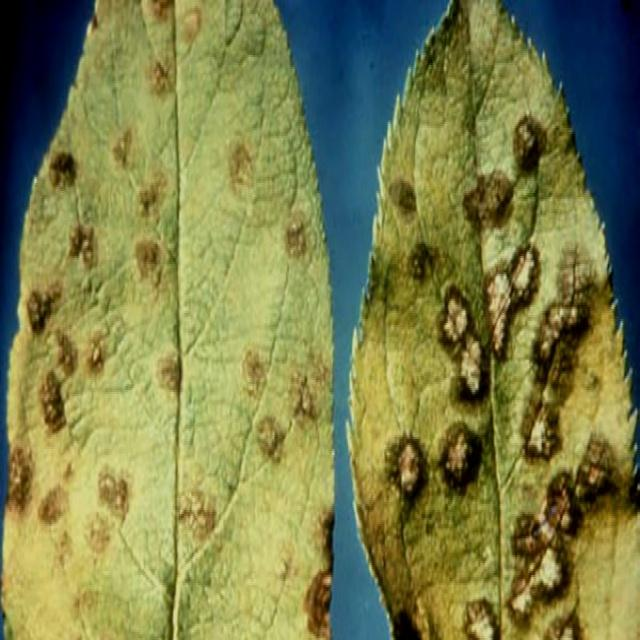shot_hole: (0, 1, 344, 640), (341, 1, 640, 640)
